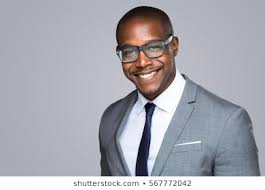black_male: (104, 3, 185, 98)
